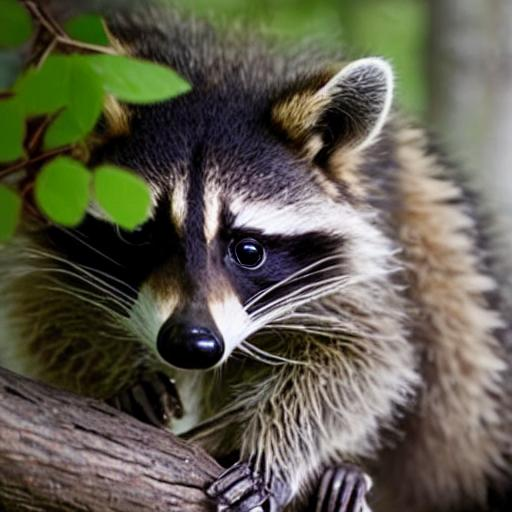raccoon: (9, 13, 512, 461)
